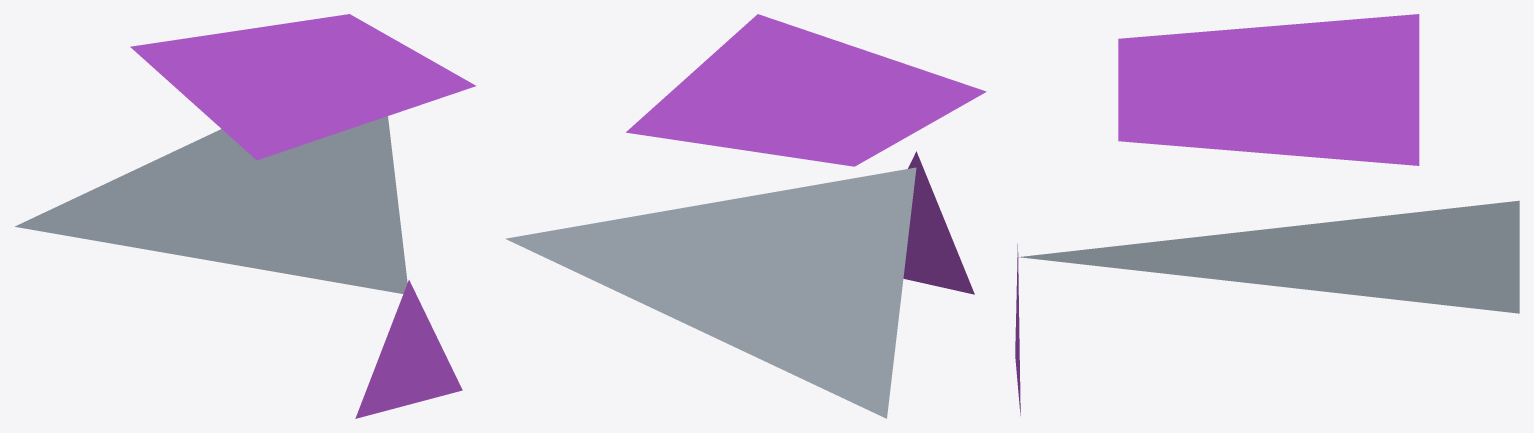
The model's file is CH_PowerPlant_LOD2.glb.
3 renders of one model, left to right at view 1: azimuth 30°, elevation 25°; view 2: azimuth 150°, elevation 25°; view 3: azimuth 270°, elevation 25°, orthographic. The views are drawn at different scales.
Visible parts, largest first — view 1: EntranceGate; view 2: EntranceGate; view 3: EntranceGate.
Part boxes in pixels (x1=…): EntranceGate: x1=15, y1=14, x2=475, y2=418; EntranceGate: x1=505, y1=14, x2=986, y2=418; EntranceGate: x1=1015, y1=14, x2=1519, y2=415.
Bounding box in the file's own units: 600 × 408 × 603.
